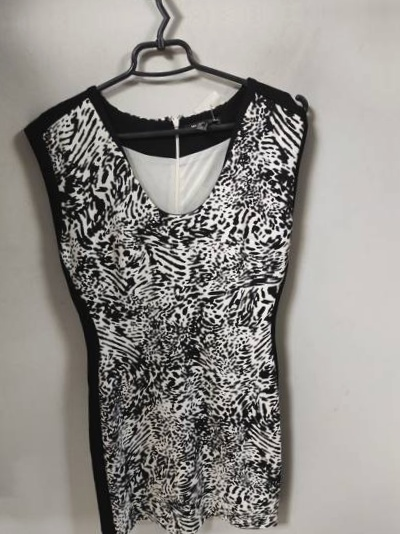Dress: (0, 43, 336, 534)
